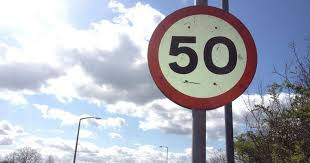Speed_limit_50km: (147, 5, 257, 110)
